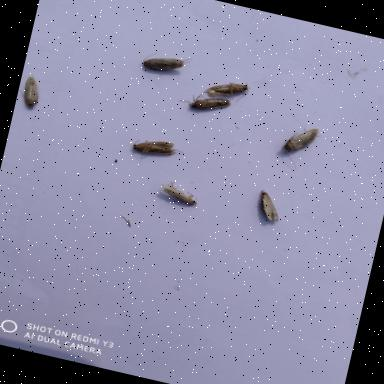pbw: (275, 118, 326, 178), (134, 43, 196, 86), (126, 132, 188, 172), (174, 84, 236, 122), (153, 176, 203, 212), (202, 72, 254, 106), (250, 186, 286, 226), (16, 70, 48, 112)
